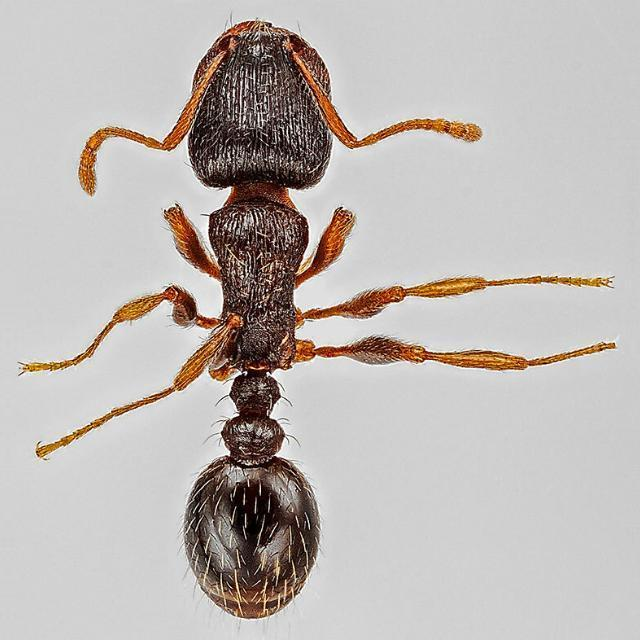Tetramorium: (71, 0, 412, 622)
